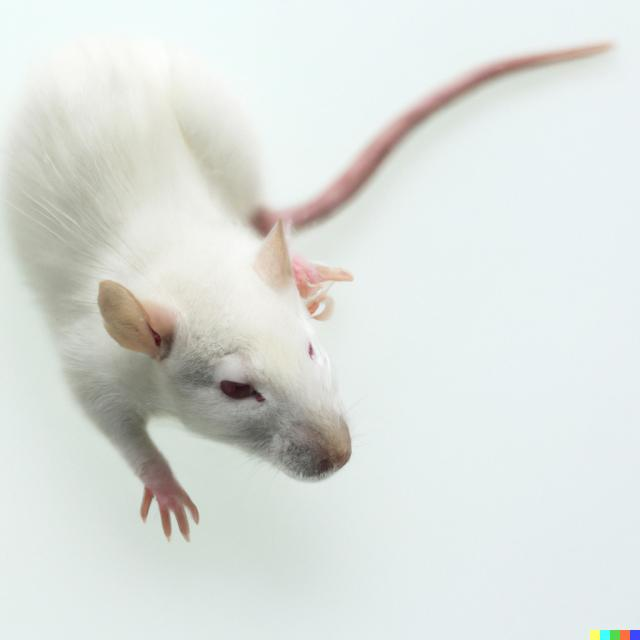rodents: (8, 18, 375, 520)
